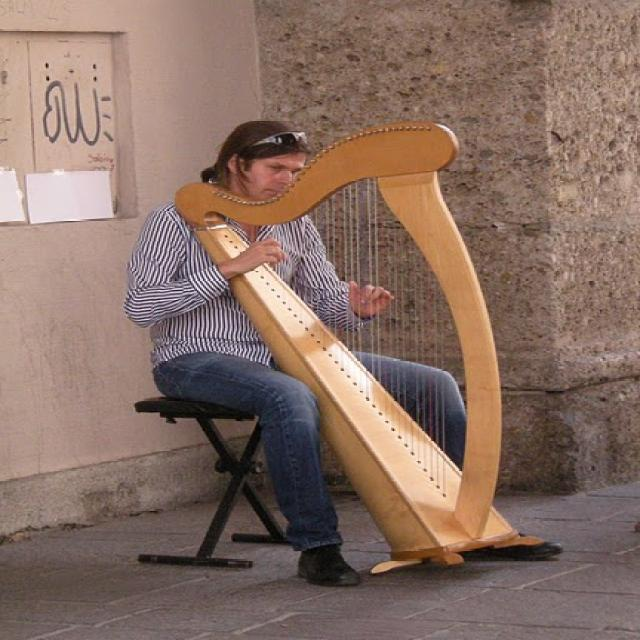harp: (174, 119, 531, 571)
